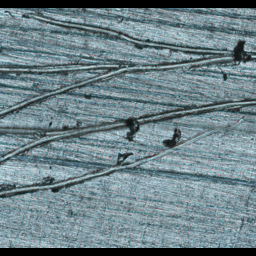d: (0, 9, 256, 208)
